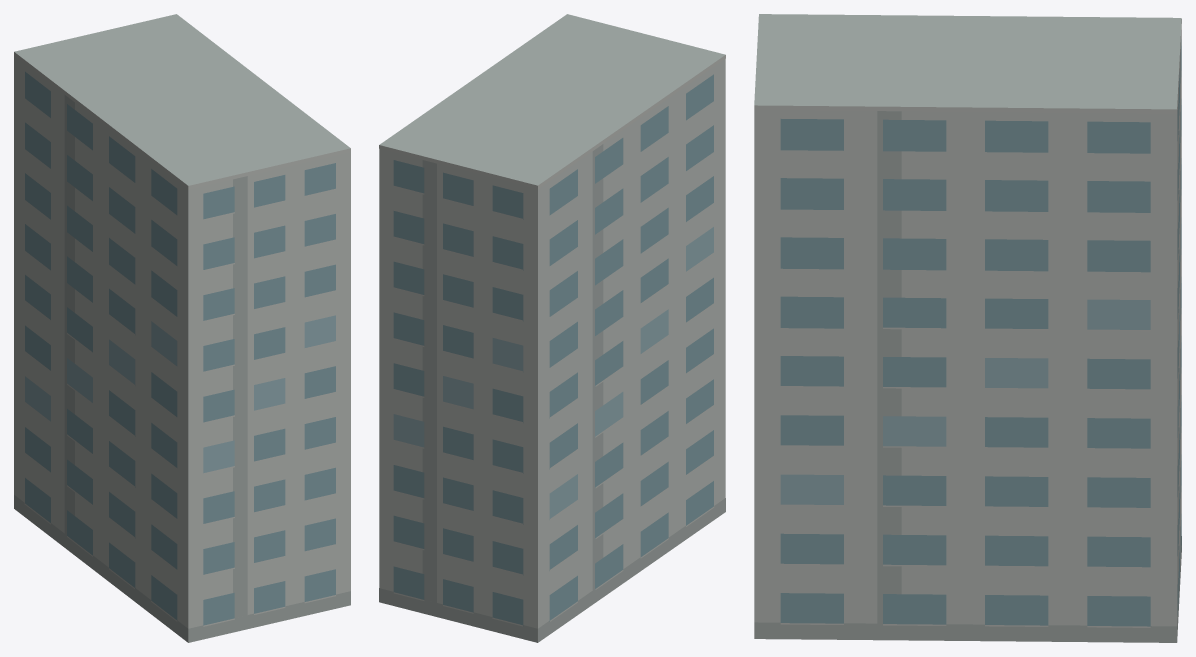
File: residential-d9183b1c-fc88-4251-836f-cd8d9424bf27.glb
The picture shows the model from 3 angles, left to right: view 1: azimuth 30°, elevation 25°; view 2: azimuth 150°, elevation 25°; view 3: azimuth 270°, elevation 25°; orthographic projection. The views are drawn at different scales.
Parts seen in each view (by area): view 1: residential-d9183b1c-fc88-4251-836f-cd8d9424bf27.tmp; view 2: residential-d9183b1c-fc88-4251-836f-cd8d9424bf27.tmp; view 3: residential-d9183b1c-fc88-4251-836f-cd8d9424bf27.tmp.
Part boxes in pixels (x1,y1,x2,y2): residential-d9183b1c-fc88-4251-836f-cd8d9424bf27.tmp: [14, 14, 350, 642]; residential-d9183b1c-fc88-4251-836f-cd8d9424bf27.tmp: [379, 14, 725, 642]; residential-d9183b1c-fc88-4251-836f-cd8d9424bf27.tmp: [754, 14, 1181, 642].
Size of the model in its own units: 11.13 by 29 by 21.07.
